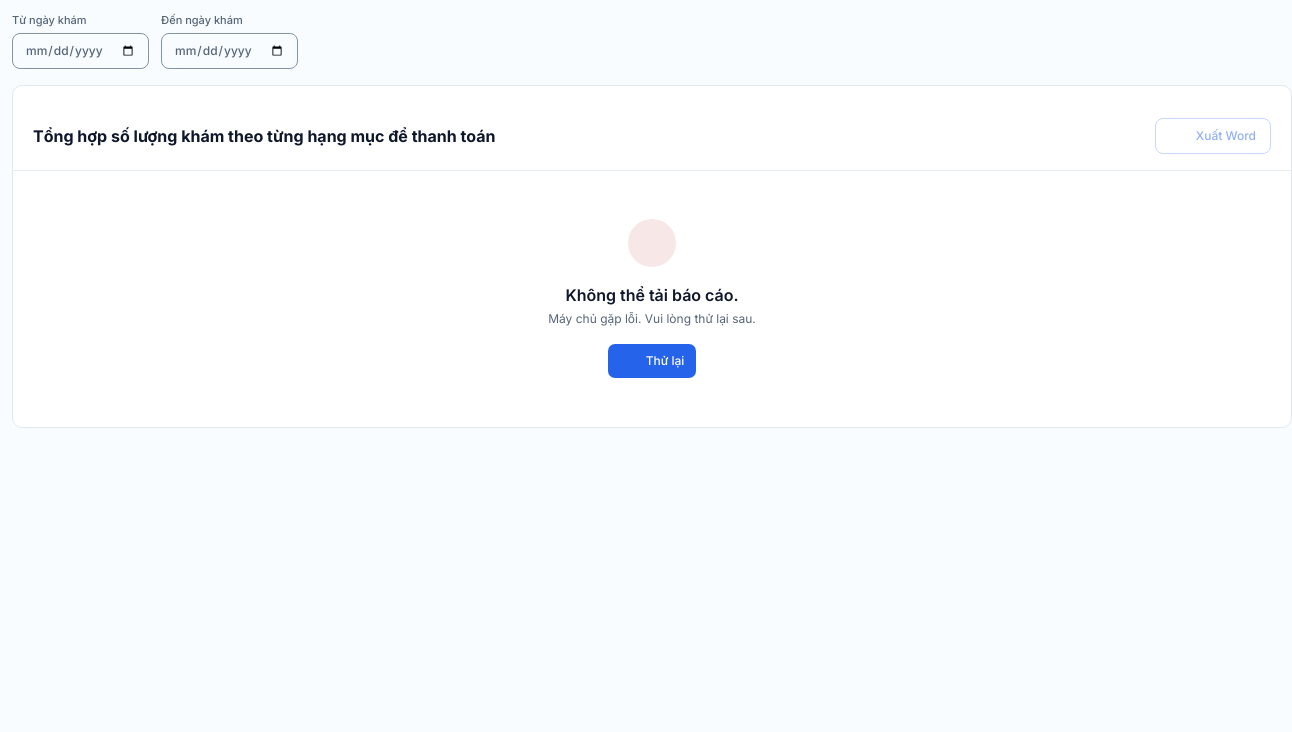
Test: ReportTab › offers a retry when the report cannot be loaded and keeps the exports disabled
Expected: the heading "Không thể tải báo cáo." is shown, [565,284,739,304]
Expected: the button "Xuất Word" is disabled, [1155,118,1271,154]
What coordinates should you click on to do the following:
click the button "Thử lại"
I would click on:
 (652, 360)
Its box is [607,342,697,378].
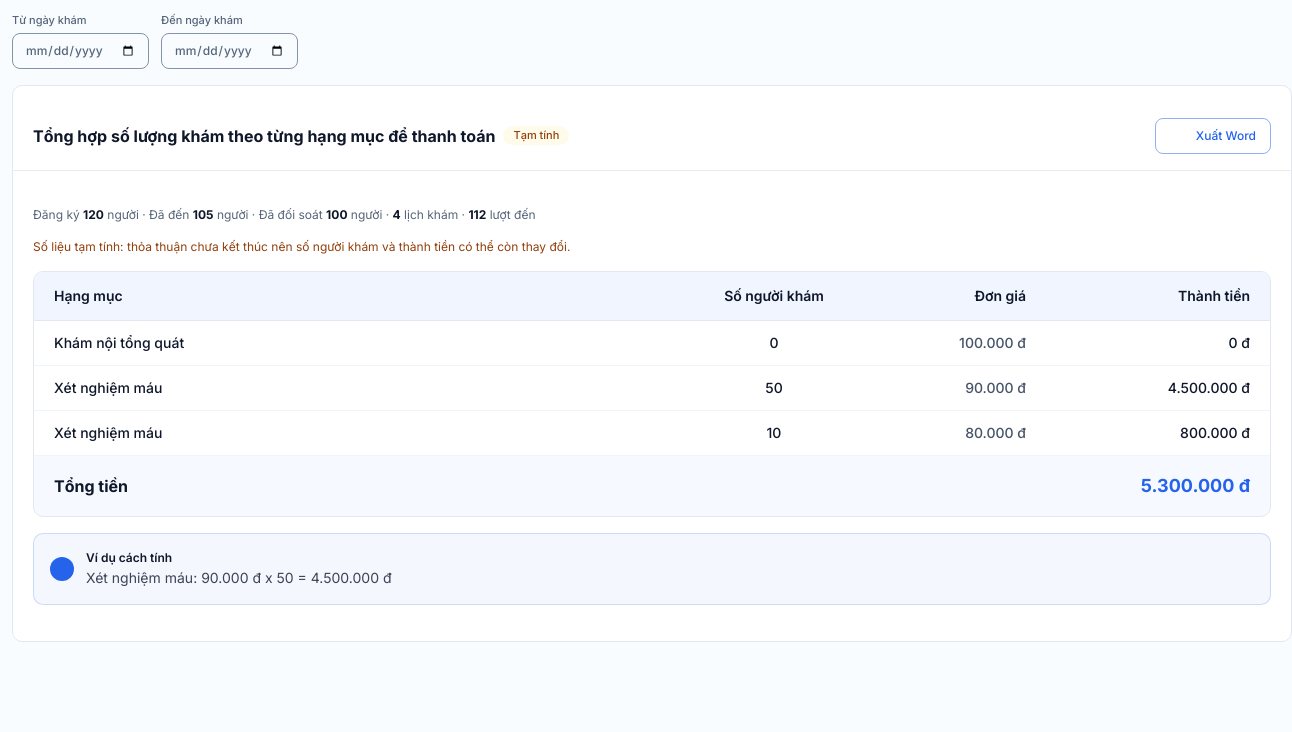
Expected: the table is shown, [34,272,1270,516]
